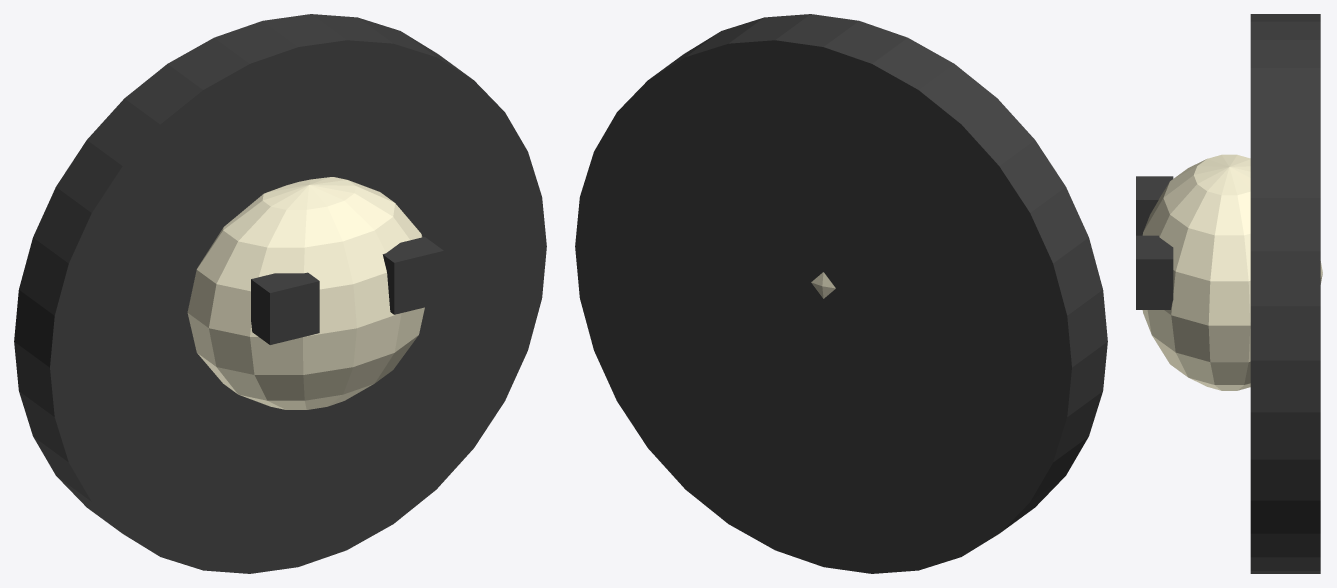
File: crew_badge.glb
The picture shows the model from 3 angles, left to right: view 1: azimuth 30°, elevation 25°; view 2: azimuth 150°, elevation 25°; view 3: azimuth 270°, elevation 25°; orthographic projection. The views are drawn at different scales.
Visible parts, largest first — view 1: SB_BadgeDisk, SB_BadgeSkull, SB_BadgeEyeL, SB_BadgeEyeR; view 2: SB_BadgeDisk; view 3: SB_BadgeDisk, SB_BadgeSkull, SB_BadgeEyeR, SB_BadgeEyeL.
Part boxes in pixels (x1,y1,x2,y2): SB_BadgeDisk: [14, 14, 546, 573]; SB_BadgeSkull: [187, 177, 424, 409]; SB_BadgeEyeL: [251, 272, 319, 344]; SB_BadgeEyeR: [382, 237, 443, 314]; SB_BadgeDisk: [575, 14, 1107, 573]; SB_BadgeDisk: [1250, 14, 1320, 573]; SB_BadgeSkull: [1142, 154, 1322, 390]; SB_BadgeEyeR: [1136, 235, 1173, 309]; SB_BadgeEyeL: [1136, 176, 1173, 235].
Bounding box in the file's own units: 1.2 × 1.2 × 0.4.
